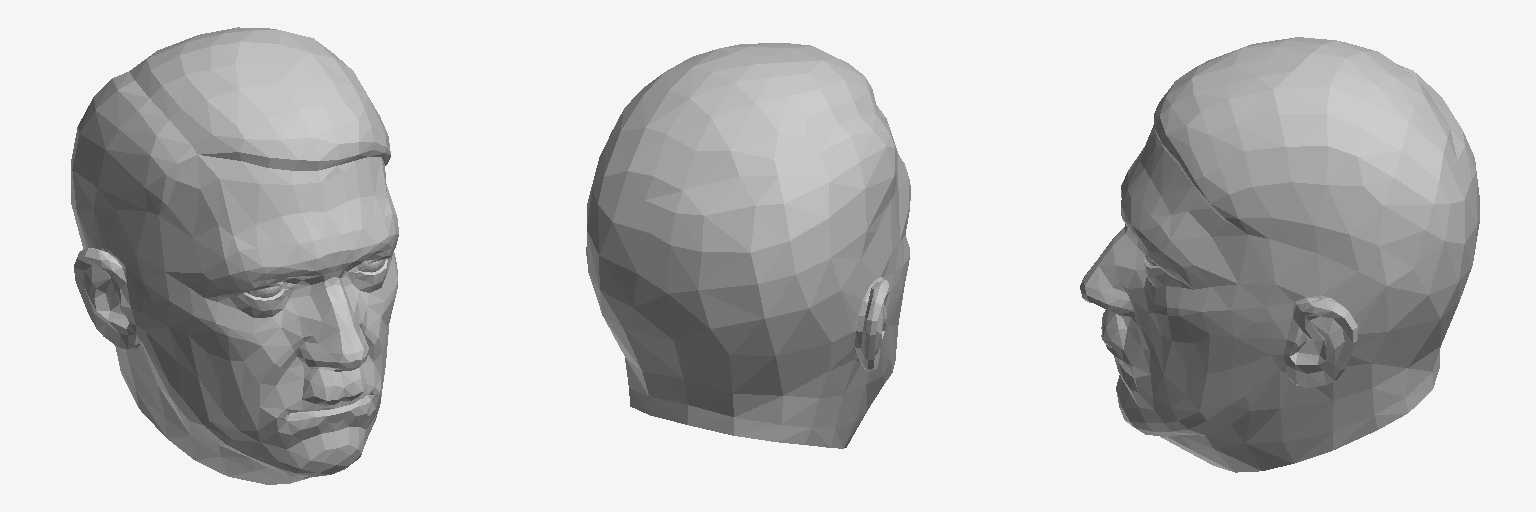
The model's file is hitler_head.obj.
3 renders of one model, left to right at view 1: azimuth 30°, elevation 25°; view 2: azimuth 150°, elevation 25°; view 3: azimuth 270°, elevation 25°, orthographic.
Parts seen in each view (by area): view 1: Default; view 2: Default; view 3: Default.
Part boxes in pixels (bbox=[...]): Default: bbox=[71, 27, 398, 484]; Default: bbox=[586, 43, 910, 448]; Default: bbox=[1080, 37, 1479, 472].
Size of the model in its own units: 7.77 by 10.31 by 9.22.